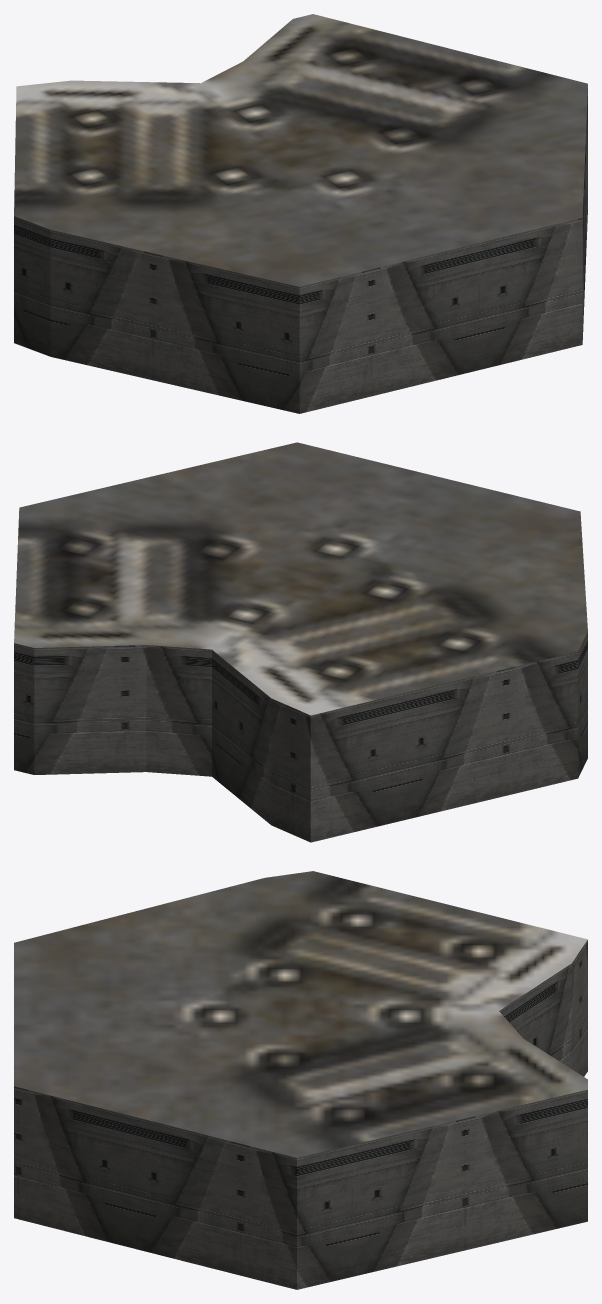
Rendered from fortress_heavy_62.glb.
3 renders of one model, top to bottom at view 1: azimuth 30°, elevation 25°; view 2: azimuth 150°, elevation 25°; view 3: azimuth 270°, elevation 25°, orthographic. The views are drawn at different scales.
Visible parts, largest first — view 1: buildings/saxarba/fortress_heavy/fortress_heavy_62; view 2: buildings/saxarba/fortress_heavy/fortress_heavy_62; view 3: buildings/saxarba/fortress_heavy/fortress_heavy_62.
Part boxes in pixels (x1,y1,x2,y2): buildings/saxarba/fortress_heavy/fortress_heavy_62: (14,14,587,413); buildings/saxarba/fortress_heavy/fortress_heavy_62: (14,442,587,842); buildings/saxarba/fortress_heavy/fortress_heavy_62: (14,871,587,1289).
Bounding box in the file's own units: 84 × 18 × 71.
